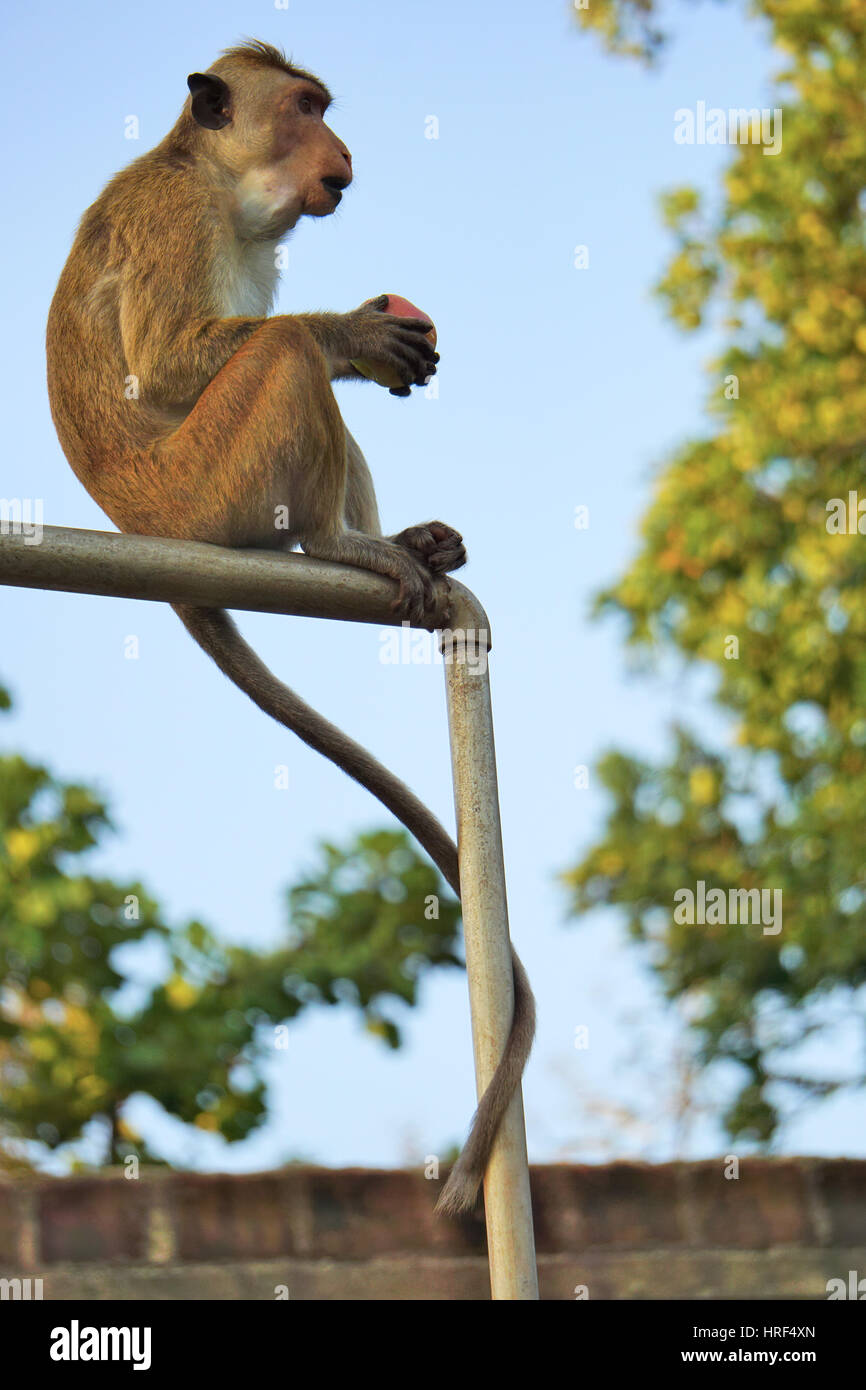Monkey: (26, 24, 512, 690)
